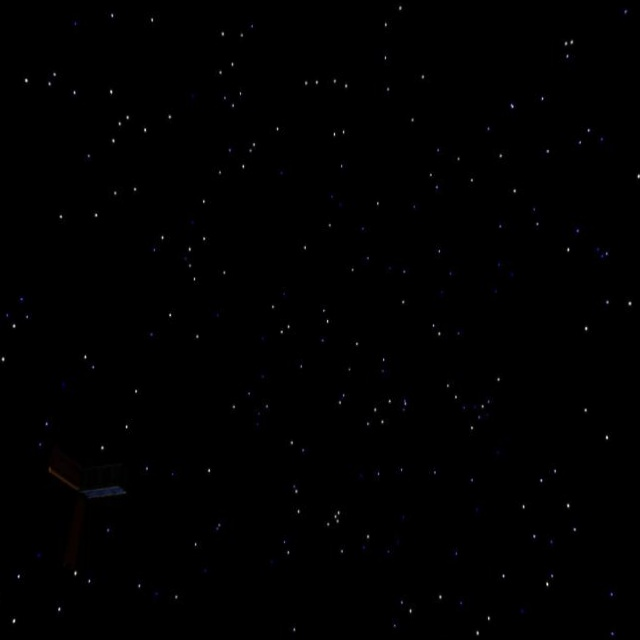medium_debris: (31, 433, 130, 562)
